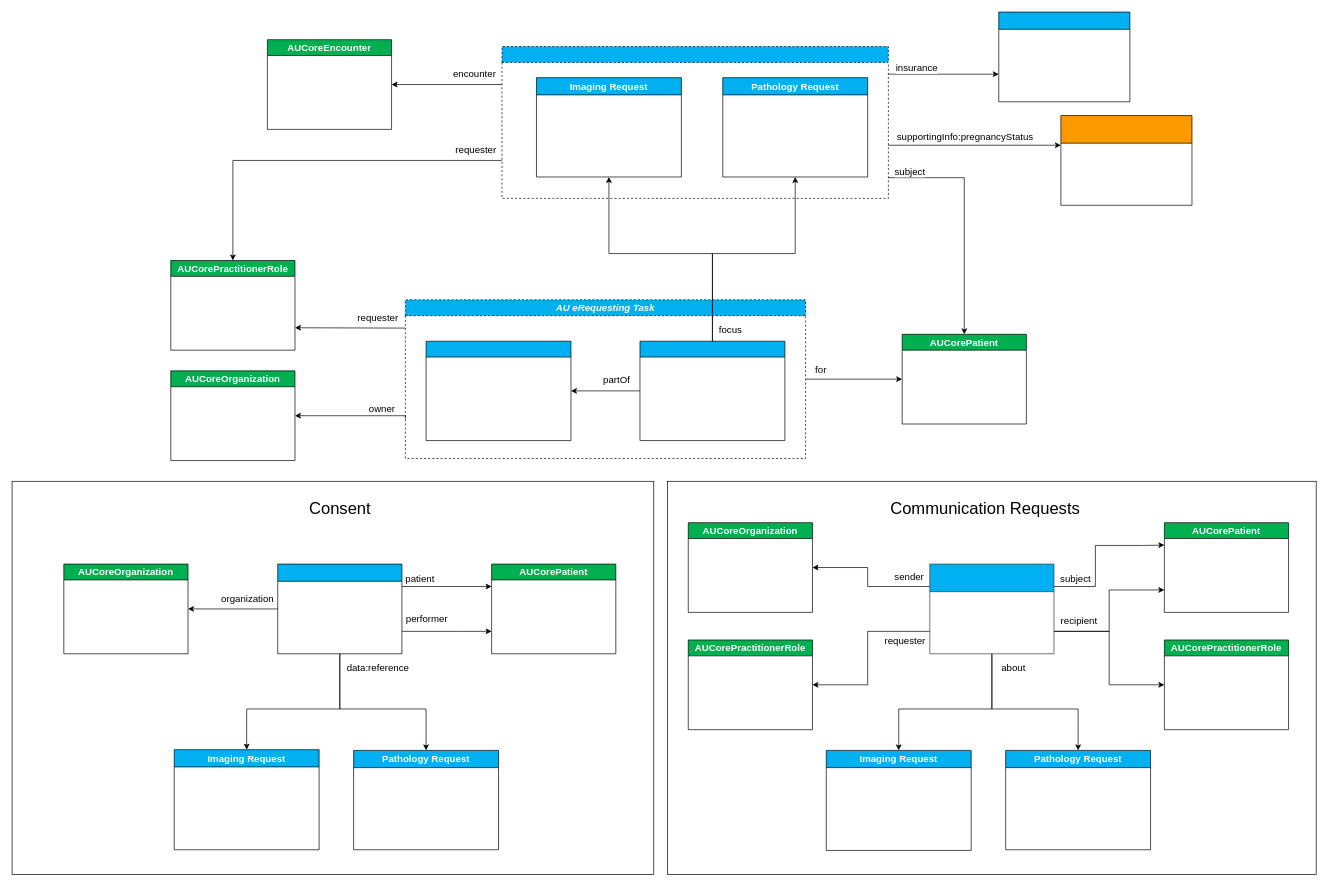
Some shapes in this 1328 by 887 pixel diagram are drawn without their labels. The box of each missing label's shape, as (x1, y1, x2, y2) in pixels:
AU eRequesting Coverage: (998, 11, 1130, 102)
AU eRequesting Diagnostic Request: (501, 46, 888, 198)
Communication Request CopyTo: (929, 563, 1054, 654)
MHR Consent Withdrawal: (277, 563, 402, 654)
Observation Pregnancy - Status (IPS): (1060, 115, 1192, 205)
Task Diagnostic Request: (639, 341, 785, 441)
Task Group: (425, 341, 571, 441)
